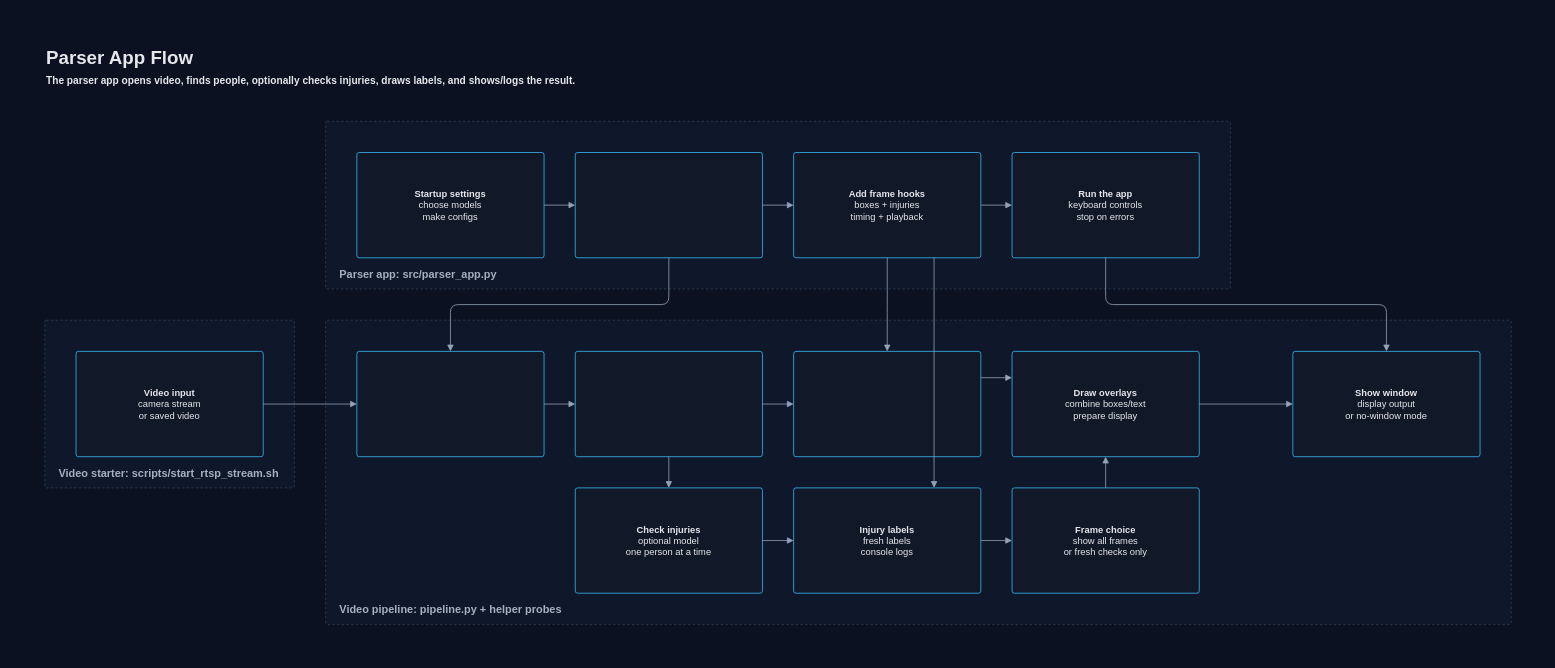
The diagram is 1555 pixels wide and 668 high, and some of its shapes have lost their labels. The centre of each missing label's shape, as x and y in pixels:
Box overlay show person boxes and confidence: (x=887, y=404)
Create pipeline build_pipeline() video processing graph: (x=668, y=205)
Find people draw person boxes add score + id: (x=668, y=404)
Read frames open the video one frame at a time: (x=450, y=404)
